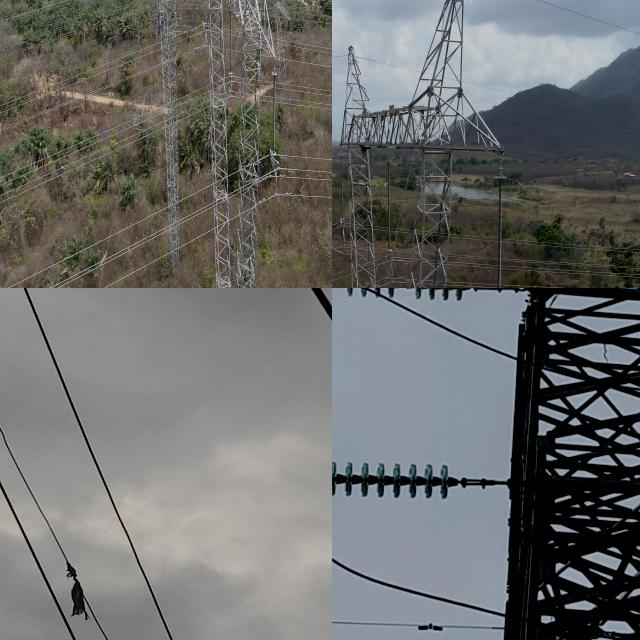杆塔: (486, 288, 640, 640), (332, 0, 507, 288), (200, 0, 285, 288), (141, 0, 190, 282)
植被遮挡: (58, 556, 94, 628)
正常绝缘子: (332, 450, 466, 510), (332, 288, 472, 312), (494, 153, 509, 288), (337, 148, 348, 253), (270, 70, 279, 160), (228, 7, 233, 76), (202, 0, 207, 26), (173, 0, 177, 14)
